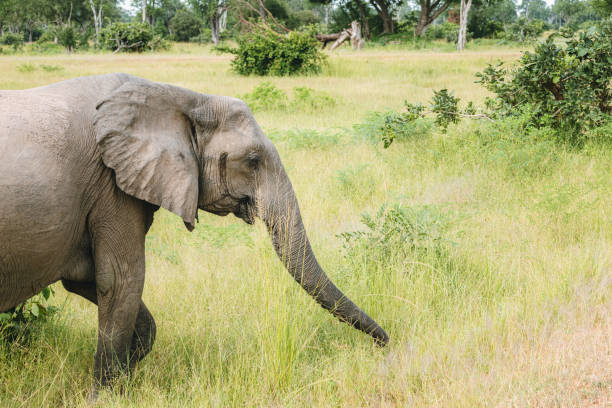africanelephant: (113, 80, 296, 258)
